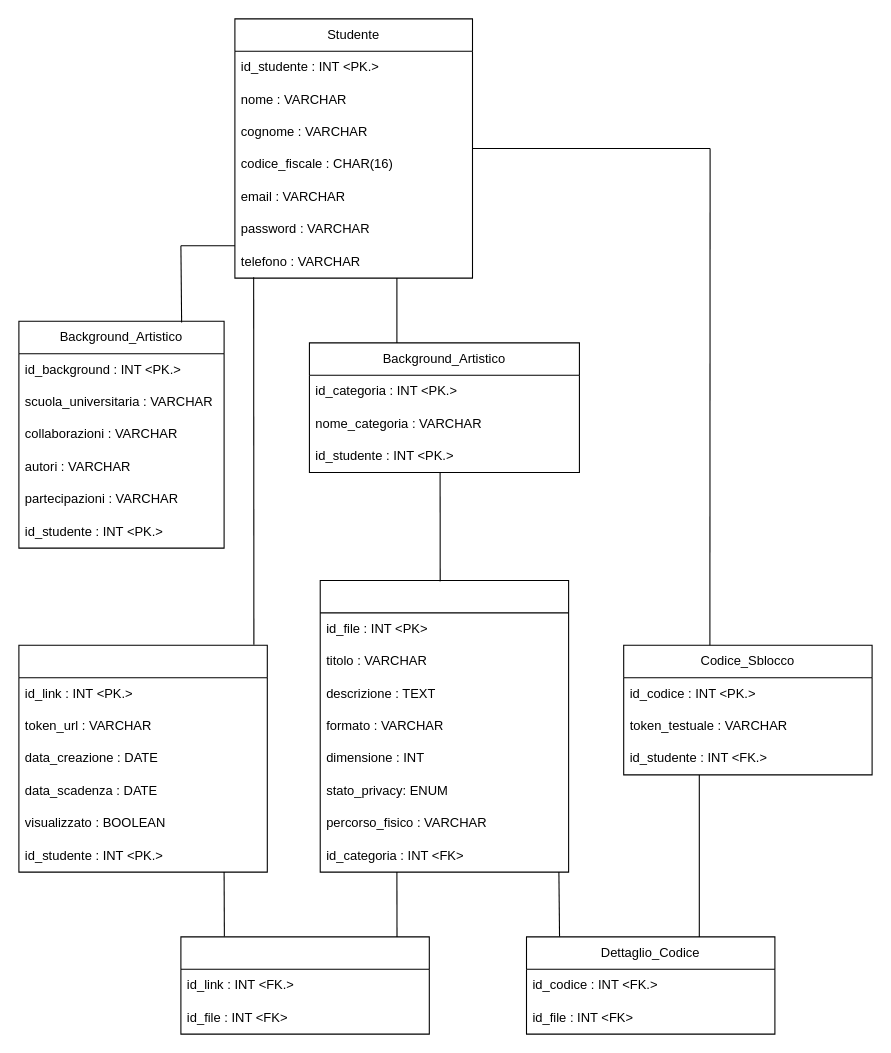
Some shapes in this 891 by 1053 pixel diagram are drawn without their labels. Each missing label, with the box of its shape:
Contenuto_File: (319, 579, 569, 872)
Dettaglio_Link: (180, 936, 429, 1034)
Link_Condivisione: (18, 644, 267, 872)
